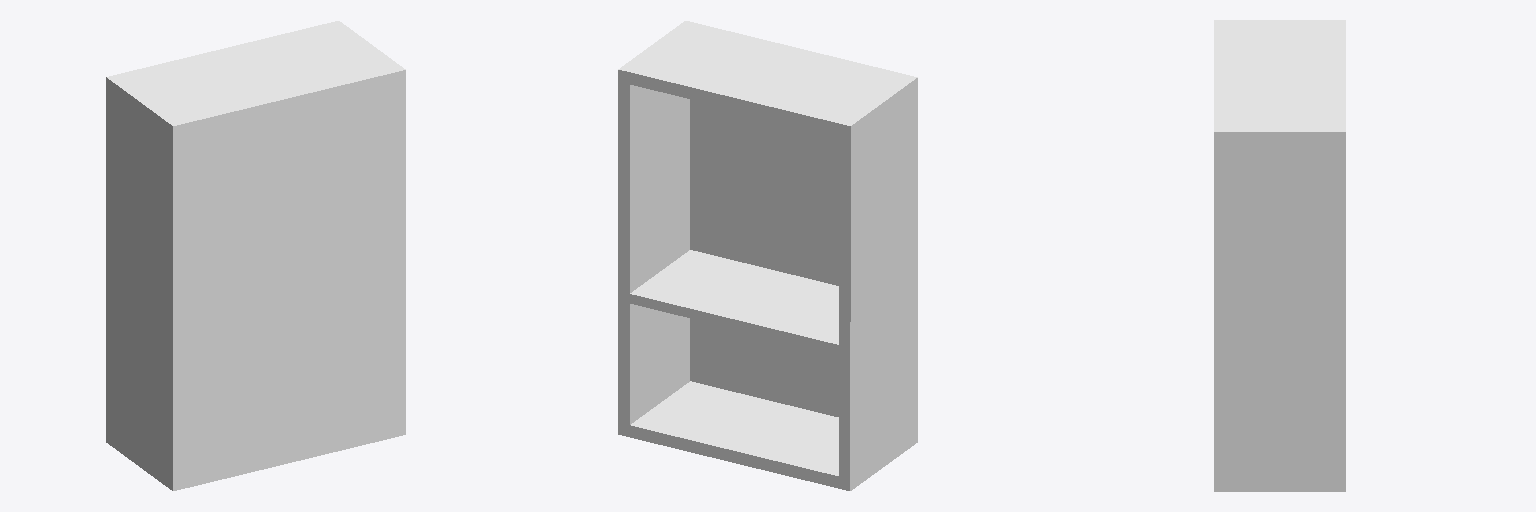
URDF robot description (walls):
<?xml version="1.0" encoding="utf-8"?>
<robot name="walls">
  <link name="base_link">
    <contact>
      <lateral_friction value="0.5"/>
      <rolling_friction value="0.0"/>
      <contact_cfm value="0.0"/>
      <contact_erp value="1.0"/>
    </contact>
    <inertial>
      <origin rpy="0 0 0" xyz="0 0 0"/>
      <mass value="0"/>
      <inertia ixx="0" ixy="0" ixz="0" iyy="0" iyz="0" izz="0"/>
    </inertial>
    <visual>
      <origin rpy="1.57 0 3.14" xyz="0 0 0"/>
      <geometry>
        <mesh filename="models/meshes/cupboard/cupboard_back.obj" scale="10 10 10"/>
      </geometry>
      <material name="tray_material">
        <color rgba="1 1 1 1"/>
      </material>
    </visual>
    <collision concave="yes">
      <origin rpy="1.57 0 3.14" xyz="0 0 0"/>
      <geometry>
        <mesh filename="models/meshes/cupboard/cupboard_back.obj" scale="10 10 10"/>
      </geometry>
    </collision>
  </link>
</robot>

--- Facts derived from the render (not from the file) ---
Views: 3 orthographic renders of the robot side by side, from view 1: azimuth 30°, elevation 25°; view 2: azimuth 150°, elevation 25°; view 3: azimuth 270°, elevation 25°.
Robot: walls — 1 links, 0 joints (none); root link base_link; default pose: every joint at zero.
Visible links, largest first — view 1: base_link; view 2: base_link; view 3: base_link.
Link boxes in pixels (<box>): base_link: <box>106,21,405,490</box>; base_link: <box>618,21,917,490</box>; base_link: <box>1214,20,1345,491</box>.
Bounding box of the posed robot: 1 × 0.5028 × 1.5 m (x, y, z).
Meshes: 1 distinct files referenced, 1 mesh visuals loaded (1 OBJ).